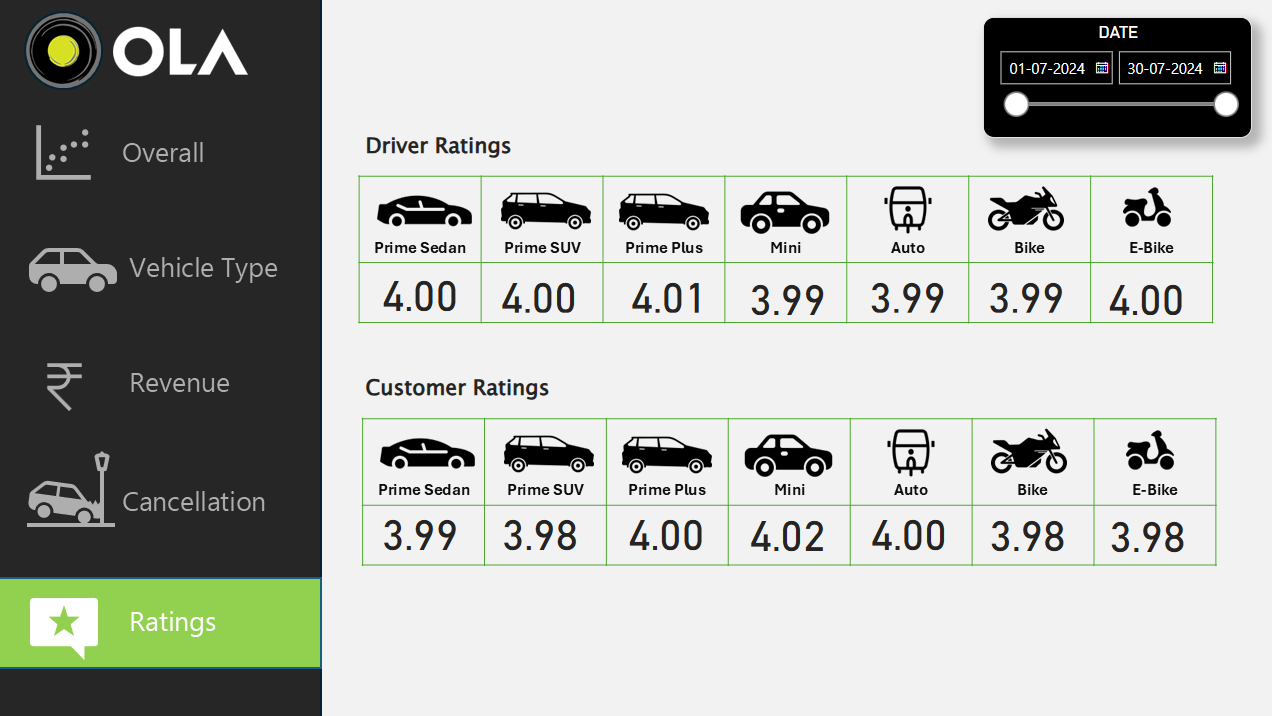

The dashboard page shown, as its layout file describes it:
{"tool":"powerbi","page":{"name":"Ratings","canvas":[1280,720],"ordinal":4},"visuals":[{"type":"actionButton","box":[0,223.2,326.9,94.1],"z":0},{"type":"actionButton","box":[0,112.2,326.9,98.9],"z":1000},{"type":"actionButton","box":[0,343.8,326.9,95.3],"z":2000},{"type":"actionButton","box":[0,448.8,326.9,96.5],"z":3000},{"type":"actionButton","box":[0,576.7,326.9,92.9],"z":4000},{"type":"card","fields":{"Values":["Avg(Booking_ola.Driver_Ratings)"]},"box":[362.3,271.7,119.4,48],"z":4001},{"type":"card","fields":{"Values":["Avg(Booking_ola.Driver_Ratings)"]},"box":[481.6,273.1,119.4,48],"z":4002},{"type":"card","fields":{"Values":["Avg(Booking_ola.Driver_Ratings)"]},"box":[610.6,273.1,119.4,48],"z":4003},{"type":"card","fields":{"Values":["Avg(Booking_ola.Driver_Ratings)"]},"box":[730,274.4,119.4,48],"z":4004},{"type":"card","fields":{"Values":["Avg(Booking_ola.Driver_Ratings)"]},"box":[849.4,273.1,119.4,48],"z":4005},{"type":"card","fields":{"Values":["Avg(Booking_ola.Driver_Ratings)"]},"box":[968.8,273.1,119.4,48],"z":4006},{"type":"card","fields":{"Values":["Avg(Booking_ola.Driver_Ratings)"]},"box":[1088.2,274.4,119.4,48],"z":4007},{"type":"textbox","box":[362.3,127.6,179.8,48],"z":4008},{"type":"textbox","box":[362.3,370.5,215.4,46.7],"z":4009},{"type":"card","fields":{"Values":["Avg(Booking_ola.Customer_Rating)"]},"box":[362.3,506.3,119.4,54.9],"z":4010},{"type":"card","fields":{"Values":["Avg(Booking_ola.Customer_Rating)"]},"box":[483,506.3,119.4,54.9],"z":4011},{"type":"card","fields":{"Values":["Avg(Booking_ola.Customer_Rating)"]},"box":[609.3,506.3,119.4,54.9],"z":4012},{"type":"card","fields":{"Values":["Avg(Booking_ola.Customer_Rating)"]},"box":[730,502.2,119.4,64.5],"z":4013},{"type":"card","fields":{"Values":["Avg(Booking_ola.Customer_Rating)"]},"box":[850.8,500.9,119.4,64.5],"z":4014},{"type":"card","fields":{"Values":["Avg(Booking_ola.Customer_Rating)"]},"box":[970.2,502.2,119.4,64.5],"z":4015},{"type":"card","fields":{"Values":["Avg(Booking_ola.Customer_Rating)"]},"box":[1089.5,503.6,119.4,64.5],"z":4016},{"type":"slicer","title":"DATE","fields":{"Values":["Booking_ola.Date"]},"box":[985.3,20.6,269,120.8],"z":4017}]}

Visuals, with their boxes in screenshot pixels (x1, y1, x2, y2), scaled from the page's 1280x720 canvas onto the 1272x716 screenshot:
actionButton: (0,222,325,316)
actionButton: (0,112,325,210)
actionButton: (0,342,325,437)
actionButton: (0,446,325,542)
actionButton: (0,573,325,666)
card - Avg(Booking_ola.Driver_Ratings): (360,270,479,318)
card - Avg(Booking_ola.Driver_Ratings): (479,272,597,319)
card - Avg(Booking_ola.Driver_Ratings): (607,272,725,319)
card - Avg(Booking_ola.Driver_Ratings): (725,273,844,321)
card - Avg(Booking_ola.Driver_Ratings): (844,272,963,319)
card - Avg(Booking_ola.Driver_Ratings): (963,272,1081,319)
card - Avg(Booking_ola.Driver_Ratings): (1081,273,1200,321)
textbox: (360,127,539,175)
textbox: (360,368,574,415)
card - Avg(Booking_ola.Customer_Rating): (360,503,479,558)
card - Avg(Booking_ola.Customer_Rating): (480,503,599,558)
card - Avg(Booking_ola.Customer_Rating): (605,503,724,558)
card - Avg(Booking_ola.Customer_Rating): (725,499,844,564)
card - Avg(Booking_ola.Customer_Rating): (845,498,964,562)
card - Avg(Booking_ola.Customer_Rating): (964,499,1083,564)
card - Avg(Booking_ola.Customer_Rating): (1083,501,1201,565)
"DATE" slicer: (979,20,1246,141)
